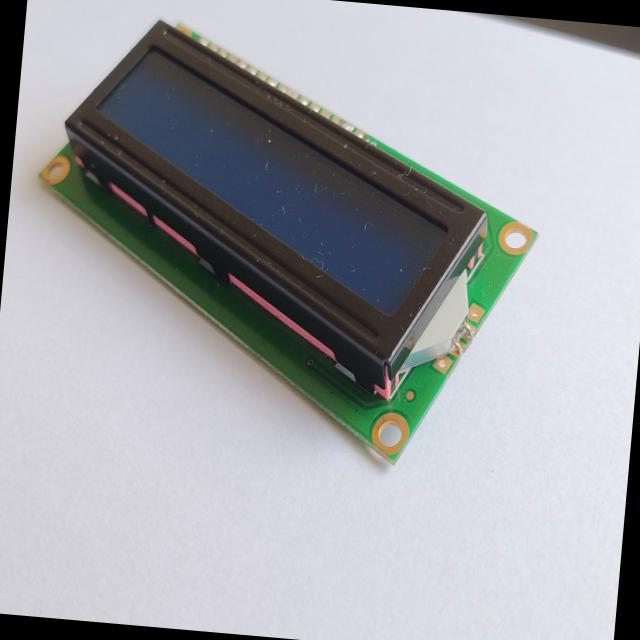lcd: (0, 0, 562, 488)
